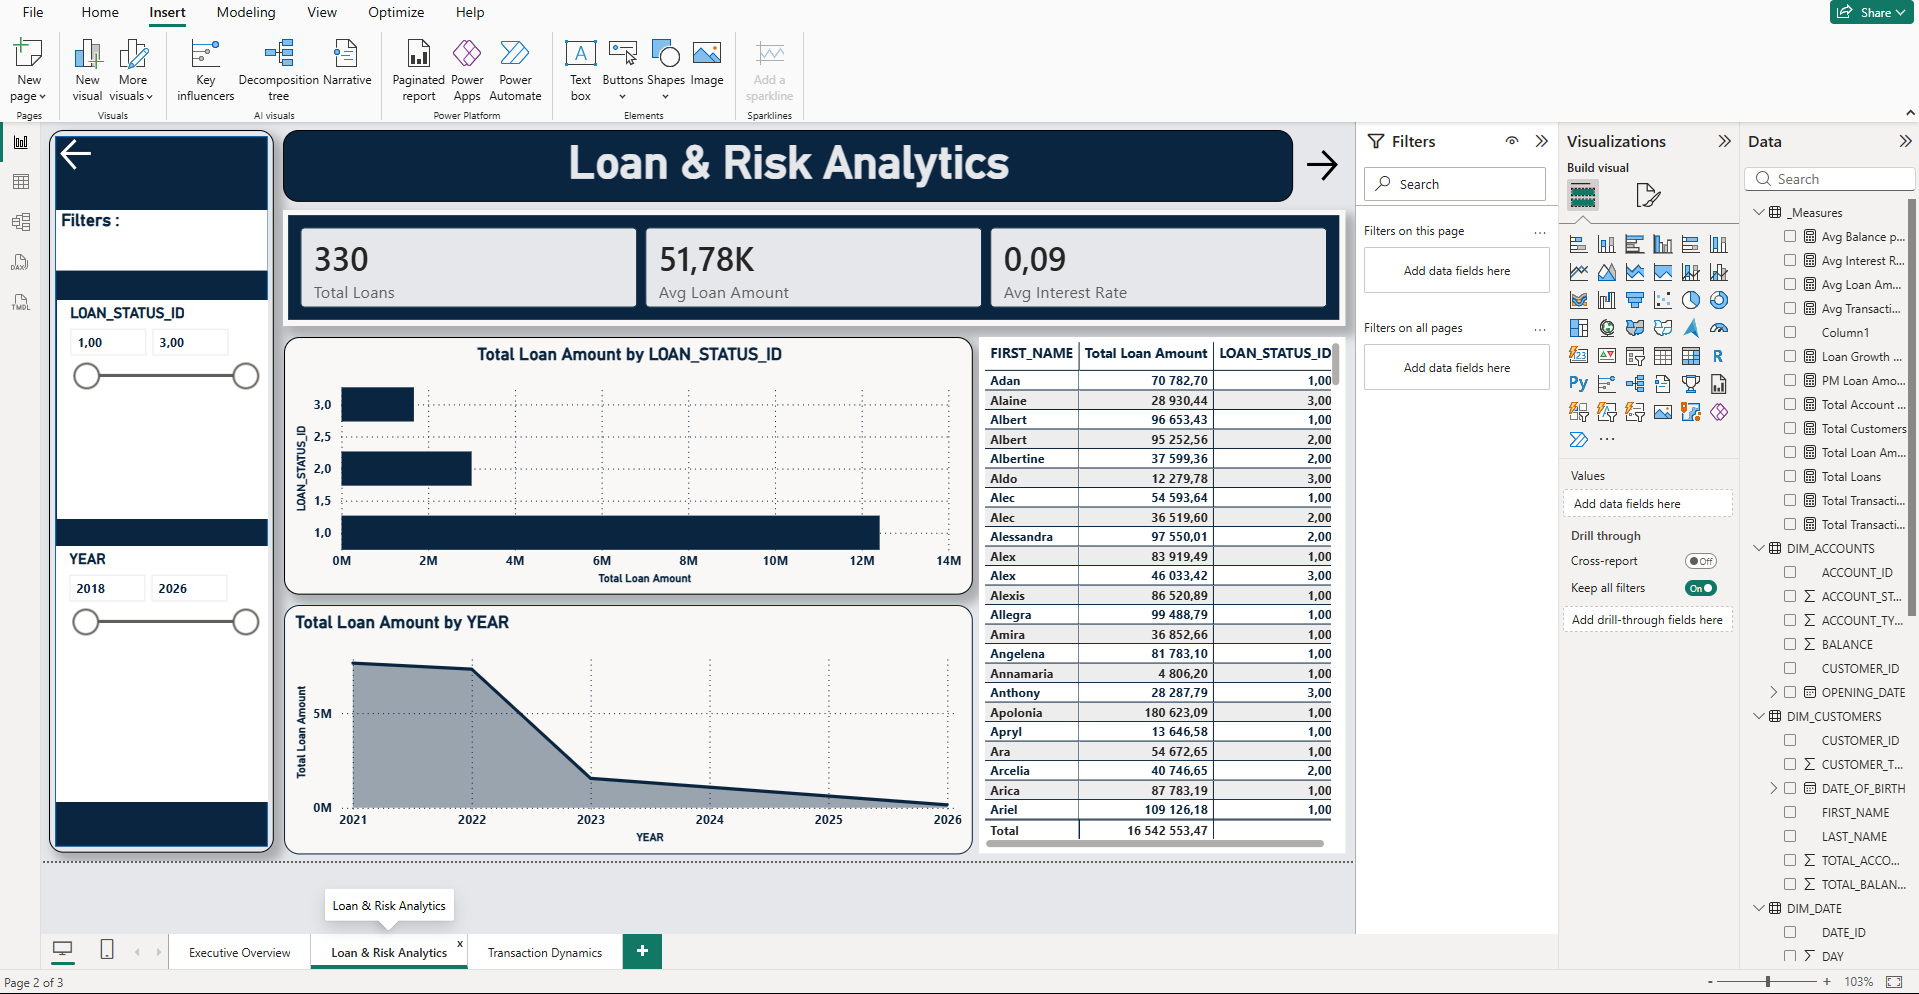

Layout of this report page (visuals, bound fields, positions):
{"tool":"powerbi","page":{"name":"Loan & Risk Analytics","canvas":[1280,720],"ordinal":1},"visuals":[{"type":"textbox","title":"Loan & Risk Analytics","box":[235.7,7.8,983.9,70.1],"z":0},{"type":"shape","box":[7.8,7.8,219.2,704.3],"z":1000},{"type":"textbox","title":"Filters :","box":[14.6,85.7,205.5,59.4],"z":2000},{"type":"cardVisual","fields":{"Data":["_Measures.Total Loans","_Measures.Avg Loan Amount","_Measures.Avg Interest Rate"]},"box":[235.7,85.7,1034.5,113],"z":3000},{"type":"clusteredBarChart","fields":{"Category":["FCT_LOANS.LOAN_STATUS_ID"],"Y":["_Measures.Total Loan Amount"]},"box":[236.7,209.4,671.2,251.3],"z":4000},{"type":"tableEx","fields":{"Values":["DIM_CUSTOMERS.FIRST_NAME","_Measures.Total Loan Amount","FCT_LOANS.LOAN_STATUS_ID"]},"box":[913.7,209.4,356.5,502.6],"z":5000},{"type":"slicer","fields":{"Values":["FCT_LOANS.LOAN_STATUS_ID"]},"box":[15.6,173.4,204.6,213.3],"z":6000},{"type":"slicer","fields":{"Values":["DIM_DATE.YEAR"]},"box":[14.6,413,205.5,249.4],"z":7000},{"type":"areaChart","fields":{"Category":["DIM_DATE.YEAR"],"Y":["_Measures.Total Loan Amount"]},"box":[236.7,470.5,671.2,242.6],"z":8000},{"type":"actionButton","box":[14.6,11.7,59.4,39.9],"z":9000},{"type":"actionButton","box":[1227.4,22.4,52.6,39.9],"z":10000}]}

Visuals, with their boxes on the page's 1280x720 design canvas (x1, y1, x2, y2). These are canvas units, not pixel positions in the 1919x994 screenshot, which may show the page scaled, cropped or inside an application window:
"Loan & Risk Analytics" textbox: select_region(236, 8, 1220, 78)
shape: select_region(8, 8, 227, 712)
"Filters :" textbox: select_region(15, 86, 220, 145)
cardVisual - _Measures.Total Loans x _Measures.Avg Loan Amount: select_region(236, 86, 1270, 199)
clusteredBarChart - FCT_LOANS.LOAN_STATUS_ID x _Measures.Total Loan Amount: select_region(237, 209, 908, 461)
tableEx - DIM_CUSTOMERS.FIRST_NAME x _Measures.Total Loan Amount: select_region(914, 209, 1270, 712)
slicer - FCT_LOANS.LOAN_STATUS_ID: select_region(16, 173, 220, 387)
slicer - DIM_DATE.YEAR: select_region(15, 413, 220, 662)
areaChart - DIM_DATE.YEAR x _Measures.Total Loan Amount: select_region(237, 470, 908, 713)
actionButton: select_region(15, 12, 74, 52)
actionButton: select_region(1227, 22, 1280, 62)
